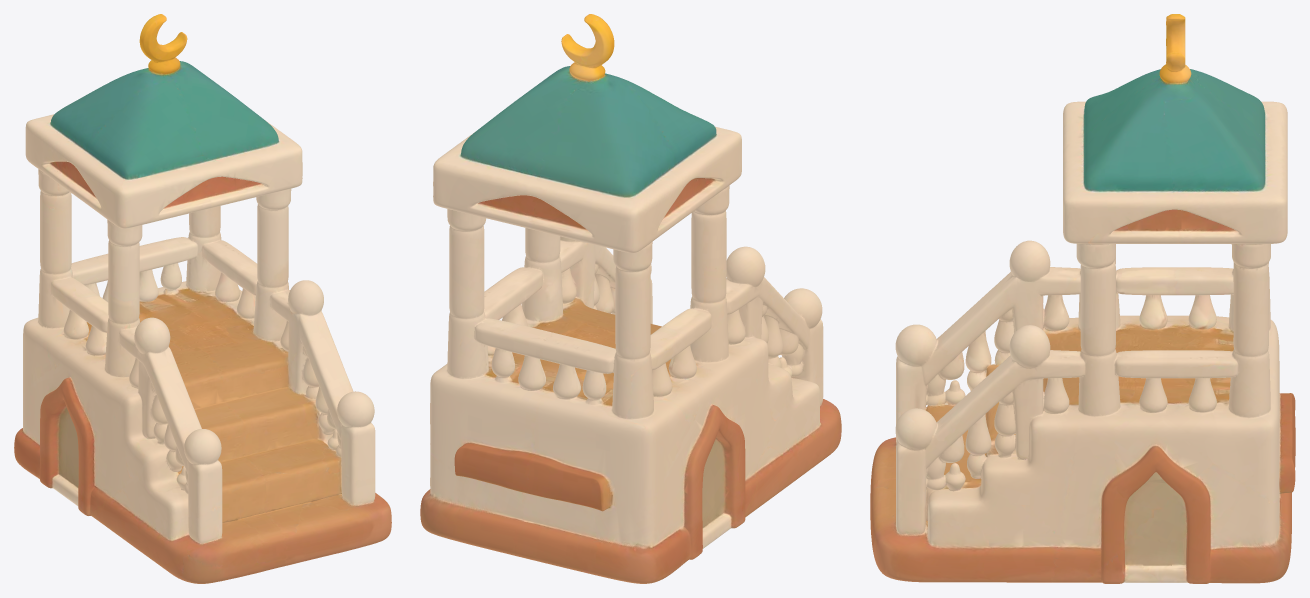
The model's file is minbar-variant-04-cream-square-canopy.glb.
3 renders of one model, left to right at view 1: azimuth 30°, elevation 25°; view 2: azimuth 150°, elevation 25°; view 3: azimuth 270°, elevation 25°, orthographic. The views are drawn at different scales.
Visible parts, largest first — view 1: mesh_node; view 2: mesh_node; view 3: mesh_node.
Part boxes in pixels (x1,y1,x2,y2): mesh_node: [14, 14, 391, 583]; mesh_node: [420, 14, 841, 583]; mesh_node: [870, 14, 1295, 583].
Bounding box in the file's own units: 0.9696 × 1.9 × 1.44.
Materials: 1 (1 with a texture image).
